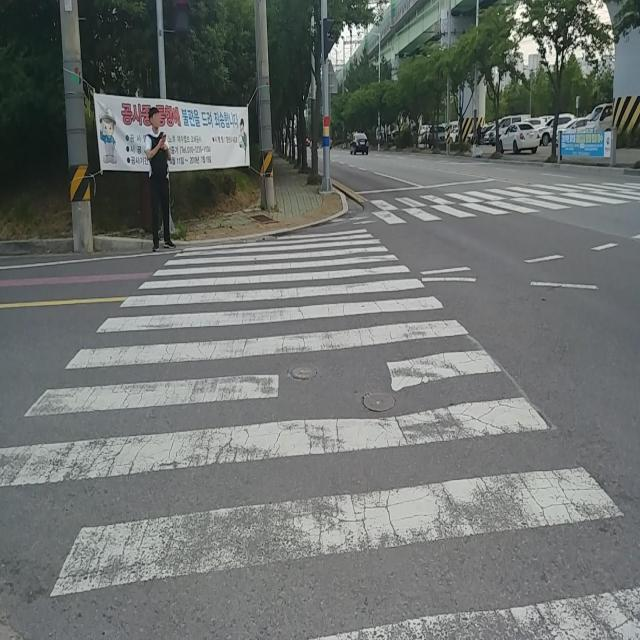횡단보도: (0, 226, 640, 640), (364, 176, 639, 219)
